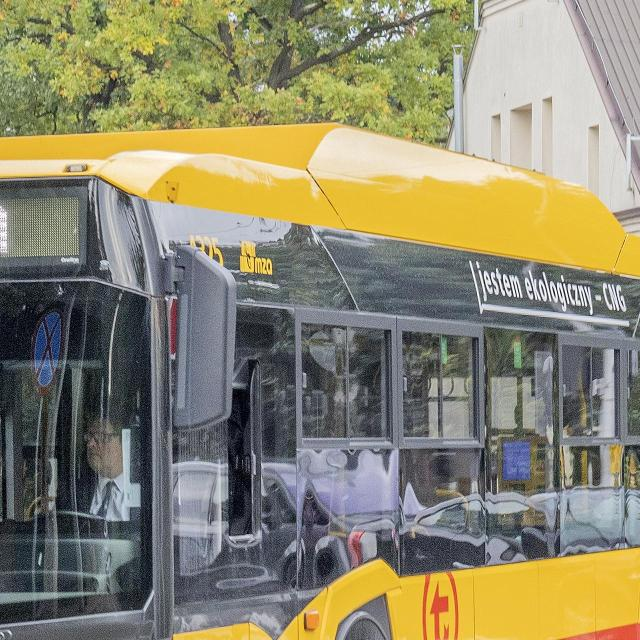Bus: (0, 124, 640, 640)
